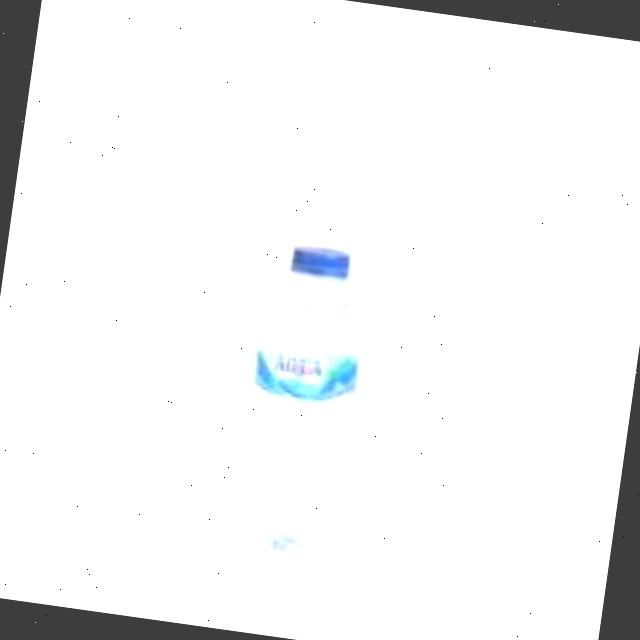trash: (206, 224, 391, 578)
